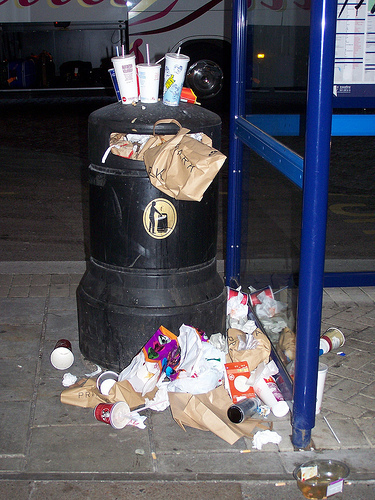litter: (102, 116, 227, 201), (199, 282, 278, 398), (147, 324, 200, 433), (58, 371, 147, 428), (197, 399, 280, 448), (291, 457, 348, 496), (108, 41, 135, 106), (161, 50, 189, 108), (135, 42, 159, 103), (120, 337, 151, 373), (319, 323, 349, 357), (47, 339, 75, 371), (316, 363, 330, 420), (181, 87, 205, 108), (272, 480, 284, 487), (240, 448, 252, 455), (151, 450, 158, 460)
